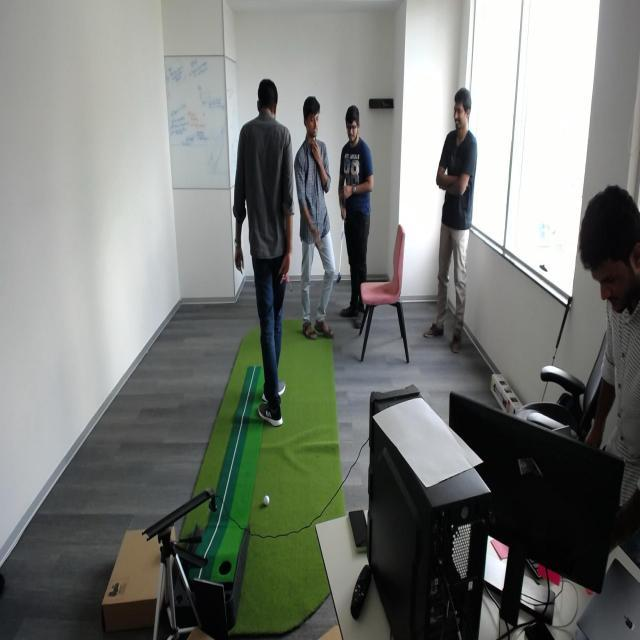GolfBall: (262, 492, 272, 512)
